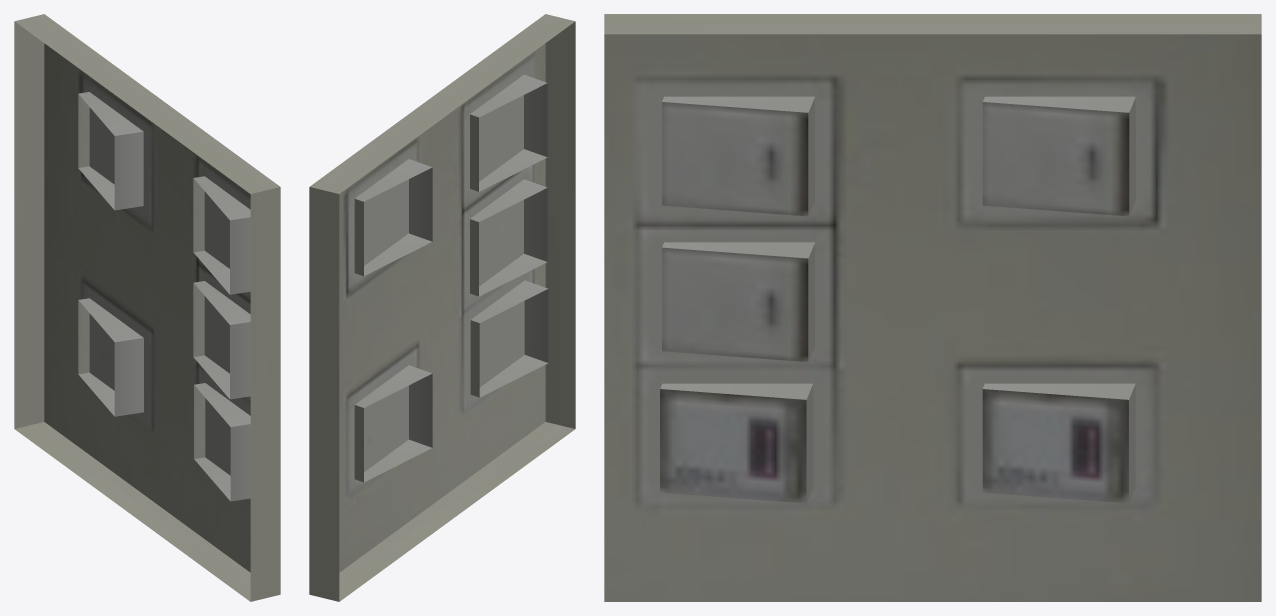
Rendered from lightswitcher001.fbx.
3 views of the same model, side by side, from view 1: azimuth 30°, elevation 25°; view 2: azimuth 150°, elevation 25°; view 3: azimuth 270°, elevation 25° (orthographic). The views are drawn at different scales.
Visible parts, largest first — view 1: Cube, Cube.004, Cube.005, Cube.001, Cube.002, Cube.003; view 2: Cube, Cube.003, Cube.004, Cube.005, Cube.001, Cube.002; view 3: Cube, Cube.004, Cube.003, Cube.005, Cube.001, Cube.002.
Part boxes in pixels (box(x1,y1,x2,y2)): Cube: box(14, 14, 280, 601); Cube.004: box(78, 298, 143, 416); Cube.005: box(78, 92, 143, 210); Cube.001: box(193, 176, 250, 294); Cube.002: box(193, 281, 250, 399); Cube.003: box(194, 383, 250, 501); Cube: box(309, 14, 575, 601); Cube.003: box(470, 280, 548, 397); Cube.004: box(354, 365, 432, 482); Cube.005: box(354, 159, 432, 276); Cube.001: box(470, 74, 547, 191); Cube.002: box(470, 179, 547, 296); Cube: box(604, 14, 1261, 601); Cube.004: box(982, 383, 1135, 503); Cube.003: box(660, 383, 813, 503); Cube.005: box(982, 96, 1135, 216); Cube.001: box(662, 96, 814, 216); Cube.002: box(662, 242, 814, 361).
Size of the model in its own units: 14.3 by 104 by 109.
Materials: 6 (6 with a texture image).
